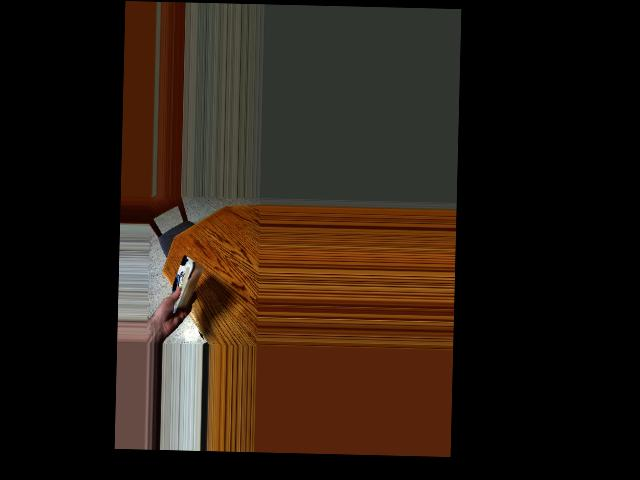cheese: (161, 257, 205, 308)
